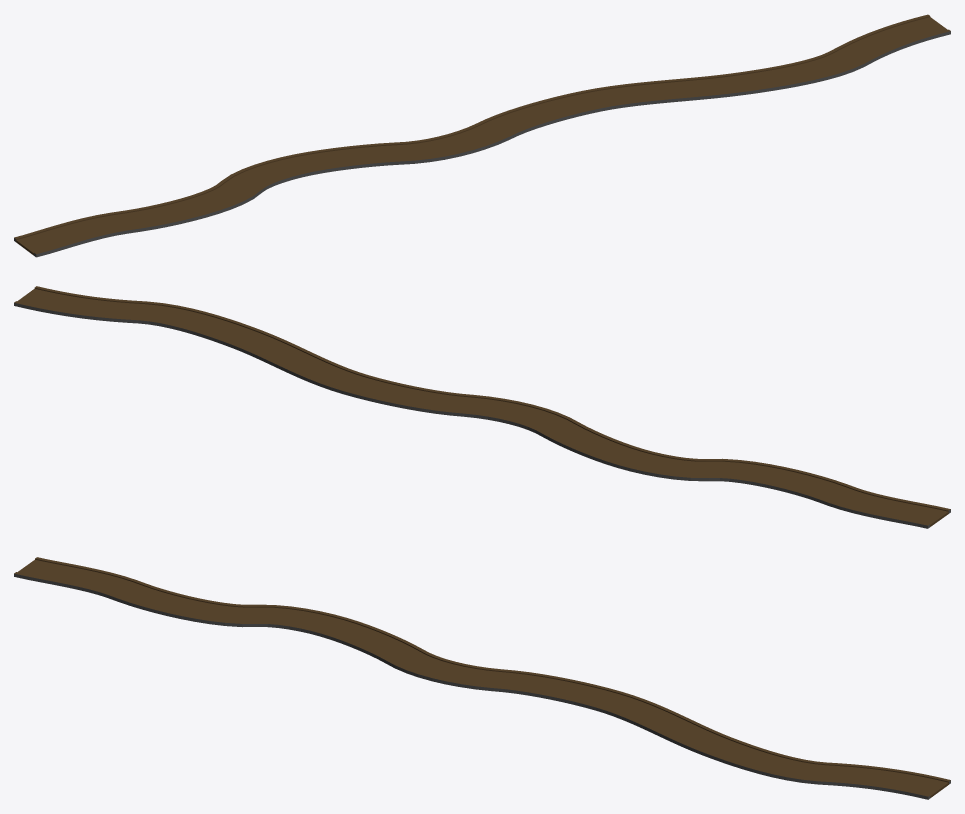
Rendered from roadhitbox.fbx.
The picture shows the model from 3 angles, top to bottom: view 1: azimuth 30°, elevation 25°; view 2: azimuth 150°, elevation 25°; view 3: azimuth 330°, elevation 25°; orthographic projection.
Parts seen in each view (by area): view 1: RoadHitbox; view 2: RoadHitbox; view 3: RoadHitbox.
Boxes of the visible parts, box(x1,y1,x2,y2) form: RoadHitbox: box(14, 14, 950, 257); RoadHitbox: box(14, 286, 950, 528); RoadHitbox: box(14, 557, 950, 799).
Size of the model in its own units: 19236 by 64.81 by 1974.
